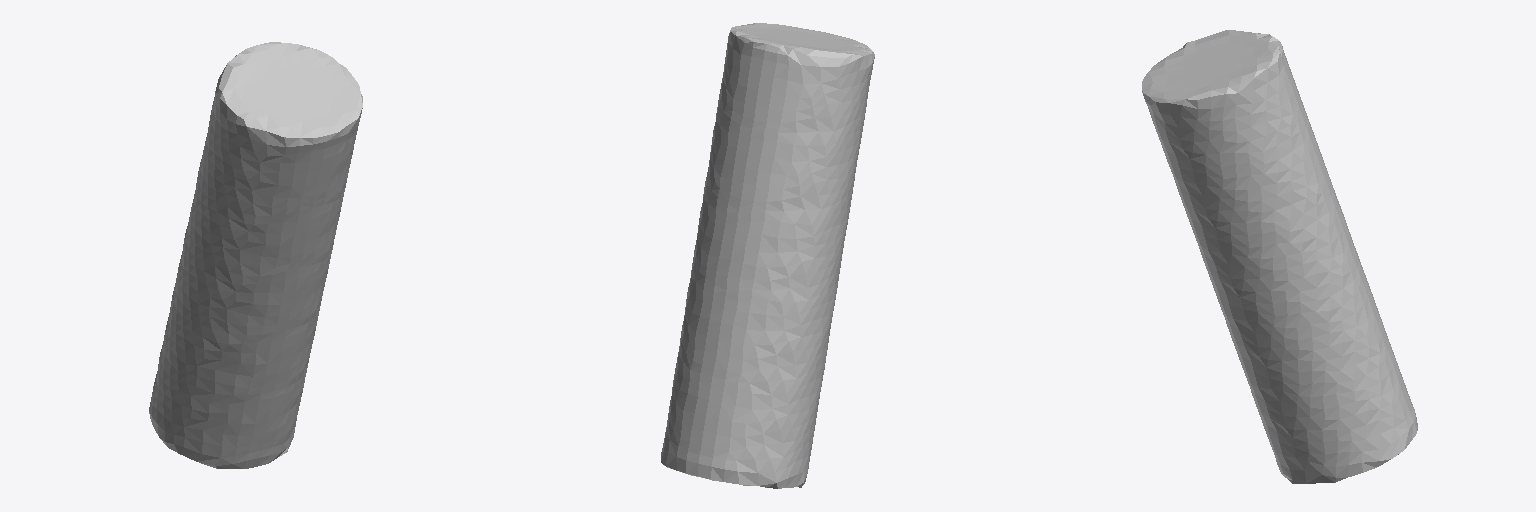
The model's file is SubTool-5-10257848.OBJ.
The picture shows the model from 3 angles: view 1: azimuth 30°, elevation 25°; view 2: azimuth 150°, elevation 25°; view 3: azimuth 270°, elevation 25°; orthographic projection.
Parts seen in each view (by area): view 1: Group23252; view 2: Group23252; view 3: Group23252.
Part boxes in pixels (left/top/right/bottom): Group23252: left=149, top=42, right=362, bottom=468; Group23252: left=661, top=23, right=874, bottom=488; Group23252: left=1142, top=30, right=1417, bottom=483.
Size of the model in its own units: 0.154 by 0.4856 by 0.2873.